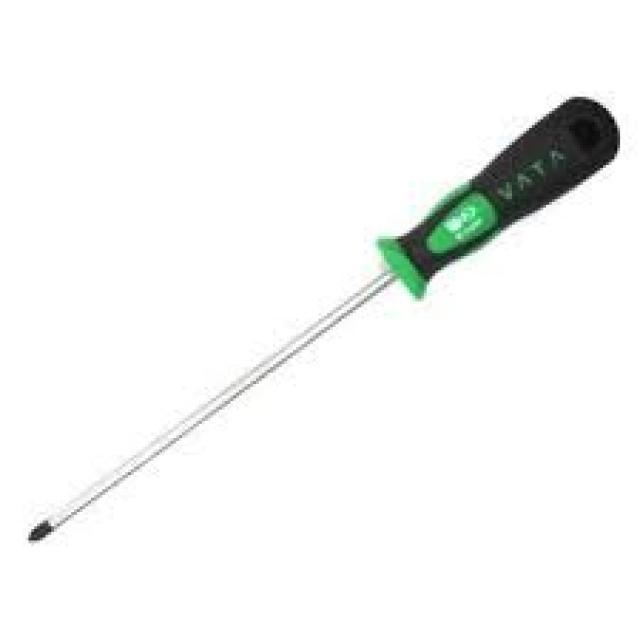screwdriver: (22, 91, 620, 552)
